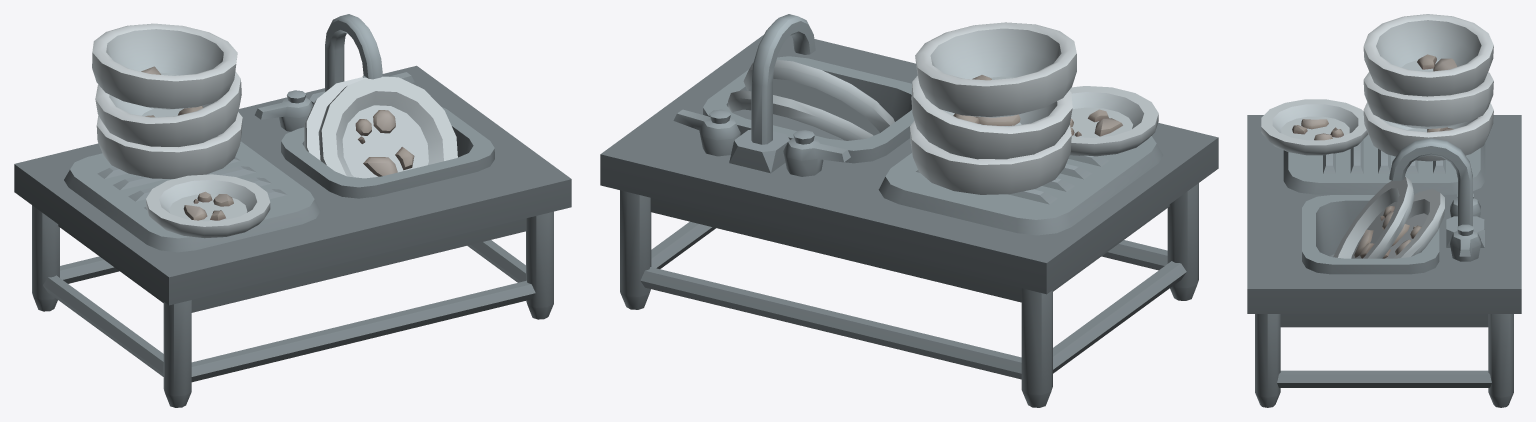
The model's file is trash.glb.
The picture shows the model from 3 angles, left to right: view 1: azimuth 30°, elevation 25°; view 2: azimuth 150°, elevation 25°; view 3: azimuth 270°, elevation 25°; orthographic projection. The views are drawn at different scales.
Parts seen in each view (by area): view 1: kitchentable_sink_large_decorated; view 2: kitchentable_sink_large_decorated; view 3: kitchentable_sink_large_decorated.
Part boxes in pixels (<box>): kitchentable_sink_large_decorated: <box>14,14,571,407</box>; kitchentable_sink_large_decorated: <box>600,14,1218,407</box>; kitchentable_sink_large_decorated: <box>1247,14,1521,407</box>.
Bounding box in the file's own units: 3 × 1.95 × 2.
Materials: 1 (1 with a texture image).
